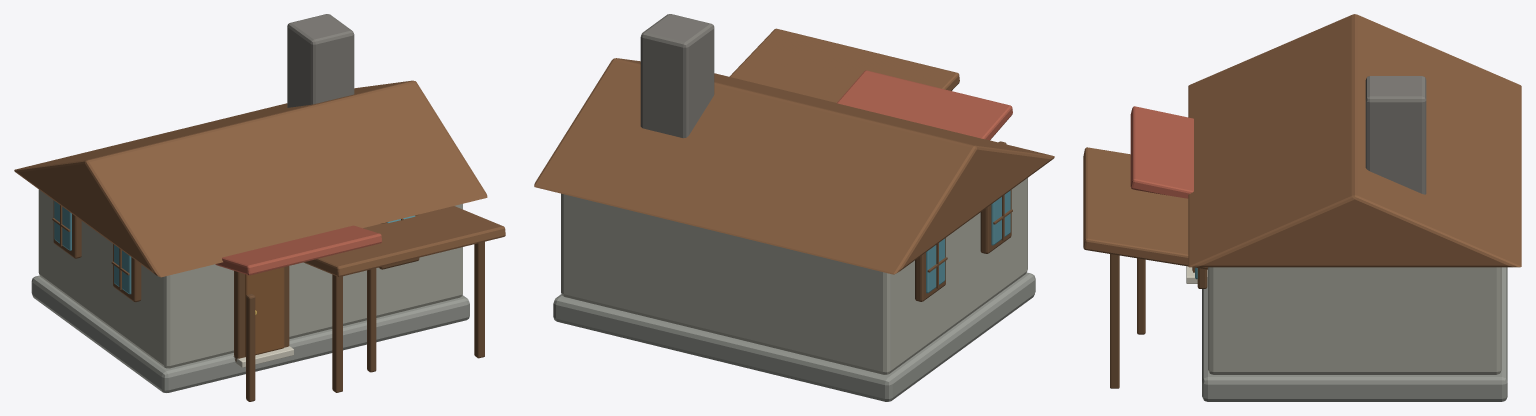
File: temperate-workshop-1.glb
The picture shows the model from 3 angles, left to right: view 1: azimuth 30°, elevation 25°; view 2: azimuth 150°, elevation 25°; view 3: azimuth 270°, elevation 25°; orthographic projection. The views are drawn at different scales.
Visible parts, largest first — view 1: Wood shingles, Fieldstone, Foundation stone, Dark beams, Soot stone, Clay tiles, Door oak, Blue glass, Cut limestone; view 2: Wood shingles, Fieldstone, Foundation stone, Soot stone, Clay tiles, Dark beams, Blue glass; view 3: Wood shingles, Fieldstone, Foundation stone, Soot stone, Clay tiles, Dark beams.
Boxes of the visible parts, x1,y1,x2,y2 form: Wood shingles: (14, 80, 505, 277); Fieldstone: (38, 189, 462, 368); Foundation stone: (31, 275, 469, 392); Dark beams: (52, 200, 484, 401); Soot stone: (287, 14, 354, 107); Clay tiles: (215, 225, 382, 275); Door oak: (245, 267, 284, 356); Blue glass: (54, 201, 415, 294); Cut limestone: (233, 346, 293, 367); Wood shingles: (534, 28, 1054, 274); Fieldstone: (561, 178, 1027, 374); Foundation stone: (553, 272, 1035, 401); Soot stone: (640, 14, 714, 138); Clay tiles: (837, 70, 1012, 140); Dark beams: (915, 141, 1012, 301); Blue glass: (926, 190, 1010, 293); Wood shingles: (1083, 14, 1521, 269); Fieldstone: (1208, 267, 1501, 374); Foundation stone: (1202, 267, 1507, 401); Soot stone: (1365, 76, 1426, 194); Clay tiles: (1130, 106, 1193, 198); Dark beams: (1110, 254, 1207, 388).
Size of the model in its own units: 4.44 by 3.17 by 4.47.
